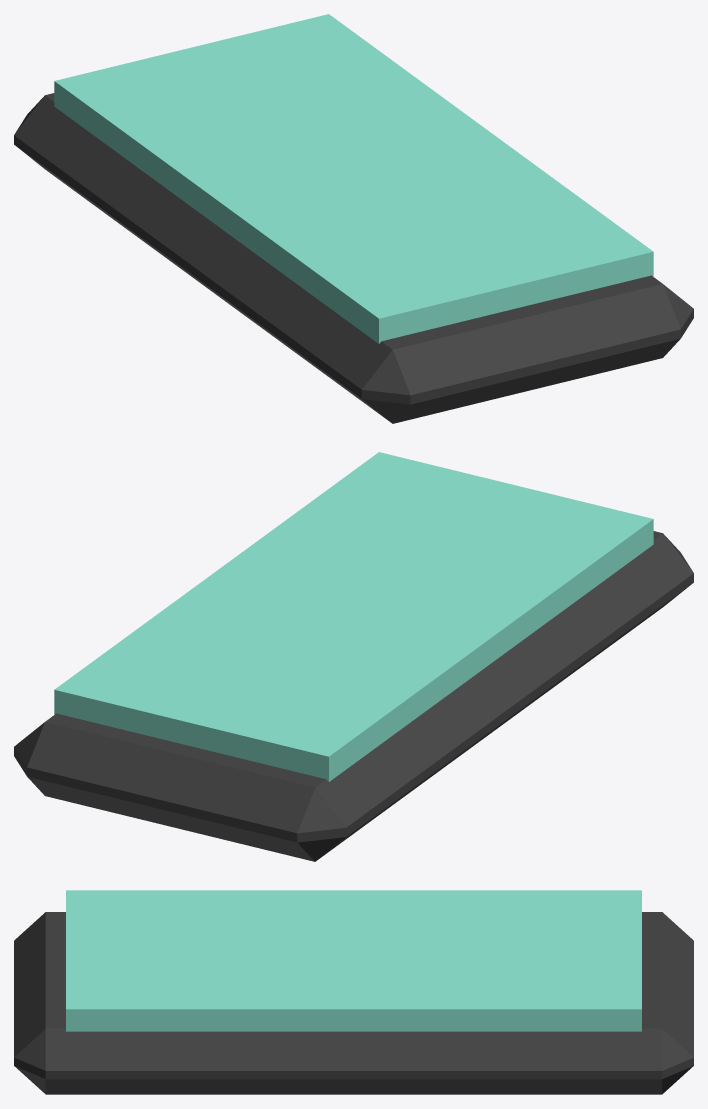
The picture shows the model from 3 angles, top to bottom: view 1: azimuth 30°, elevation 25°; view 2: azimuth 150°, elevation 25°; view 3: azimuth 270°, elevation 25°; orthographic projection. The views are drawn at different scales.
Visible parts, largest first — view 1: Screen, Phone; view 2: Screen, Phone; view 3: Screen, Phone.
Boxes of the visible parts, <box> form: Screen: <box>54,14,653,343</box>; Phone: <box>14,93,693,423</box>; Screen: <box>54,452,653,781</box>; Phone: <box>14,531,693,861</box>; Screen: <box>66,890,641,1031</box>; Phone: <box>14,912,693,1094</box>.
Size of the model in its own units: 7.5 by 2.1 by 15.
